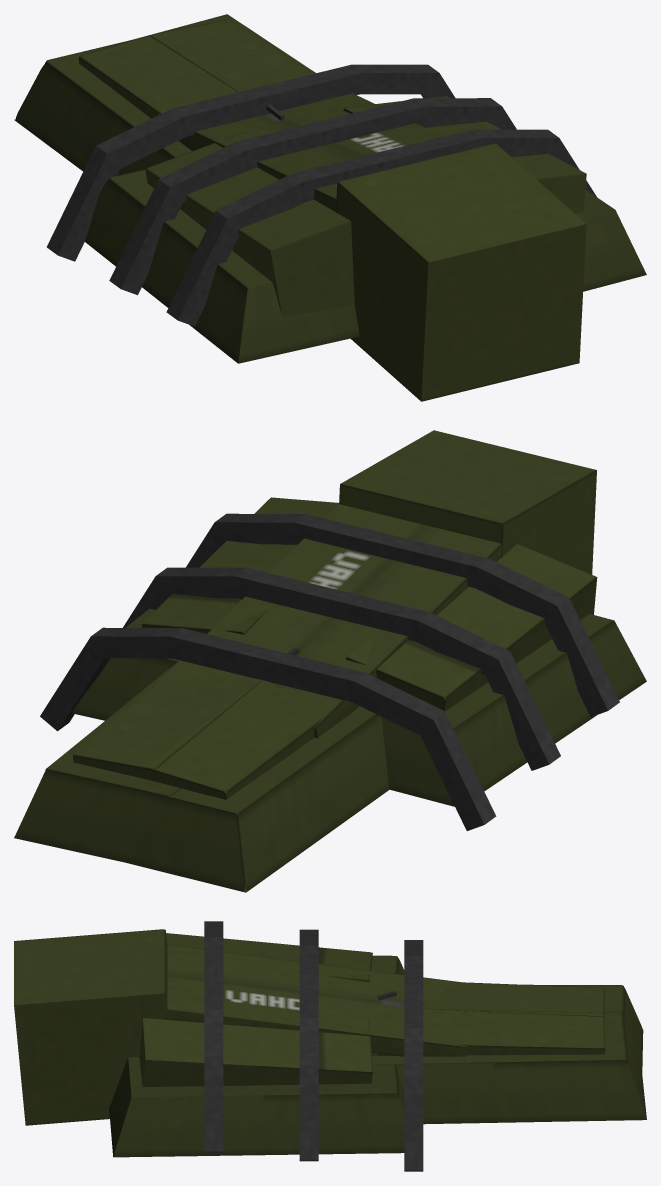
The model's file is body_bag_green.obj.
The picture shows the model from 3 angles, top to bottom: view 1: azimuth 30°, elevation 25°; view 2: azimuth 150°, elevation 25°; view 3: azimuth 270°, elevation 25°; orthographic projection. The views are drawn at different scales.
Parts seen in each view (by area): view 1: baseModel5, baseModel10, baseModel1, baseModel8, baseModel4, baseModel14, baseModel3, baseModel27, baseModel22, baseModel7, baseModel15, baseModel17 (+12 smaller); view 2: baseModel5, baseModel8, baseModel14, baseModel10, baseModel1, baseModel4, baseModel3, baseModel12, baseModel27, baseModel2, baseModel22, baseModel15 (+16 smaller); view 3: baseModel5, baseModel7, baseModel8, baseModel12, baseModel2, baseModel3, baseModel4, baseModel1, baseModel11, baseModel19, baseModel25, baseModel20 (+9 smaller).
Boxes of the visible parts, x1,y1,x2,y2 form: baseModel5: [336, 143, 586, 401]; baseModel10: [85, 179, 359, 363]; baseModel1: [145, 132, 354, 316]; baseModel8: [157, 93, 442, 211]; baseModel4: [78, 33, 241, 118]; baseModel14: [14, 62, 173, 175]; baseModel3: [150, 19, 311, 92]; baseModel27: [173, 65, 362, 136]; baseModel22: [236, 98, 425, 170]; baseModel7: [440, 95, 646, 291]; baseModel15: [293, 130, 482, 201]; baseModel17: [166, 211, 242, 326]; baseModel5: [339, 430, 596, 574]; baseModel8: [153, 504, 501, 738]; baseModel14: [130, 715, 389, 892]; baseModel10: [381, 621, 646, 806]; baseModel1: [346, 544, 597, 711]; baseModel4: [145, 679, 321, 816]; baseModel3: [73, 678, 262, 780]; baseModel12: [14, 770, 144, 864]; baseModel27: [170, 628, 365, 701]; baseModel2: [141, 497, 338, 634]; baseModel22: [235, 568, 430, 642]; baseModel15: [294, 514, 488, 588]; baseModel5: [14, 929, 167, 1125]; baseModel7: [109, 1057, 404, 1157]; baseModel8: [164, 944, 467, 1056]; baseModel12: [396, 1023, 646, 1124]; baseModel2: [139, 1018, 372, 1086]; baseModel3: [376, 1008, 605, 1055]; baseModel4: [423, 982, 605, 1016]; baseModel1: [166, 933, 372, 982]; baseModel11: [372, 1011, 626, 1064]; baseModel19: [204, 1056, 223, 1152]; baseModel25: [404, 1075, 423, 1171]; baseModel20: [299, 1065, 318, 1161].
Bounding box in the file's own units: 1.36 × 0.4794 × 2.08.
1 material, 1 textured.
